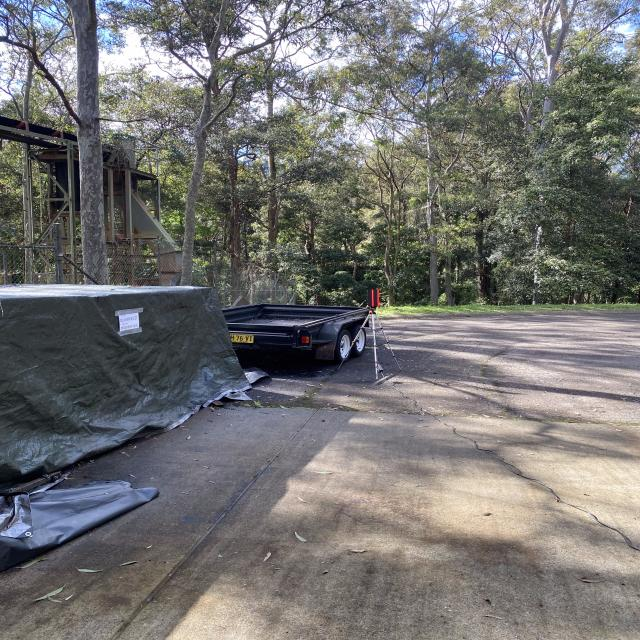matrix: (364, 288, 382, 308)
